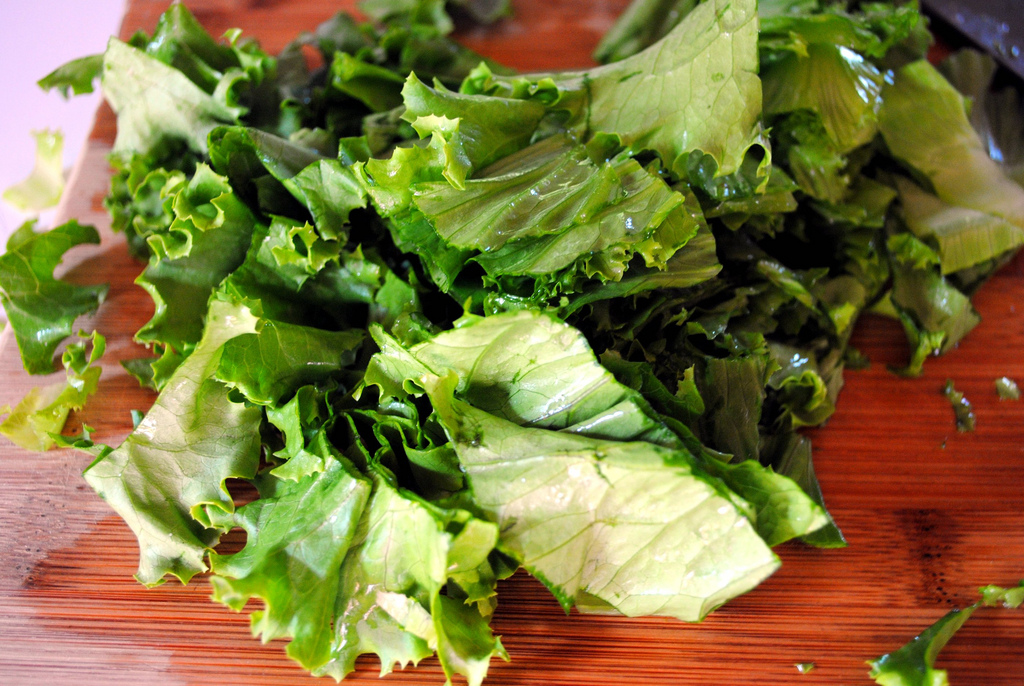chopped lettuce: (27, 18, 962, 652)
